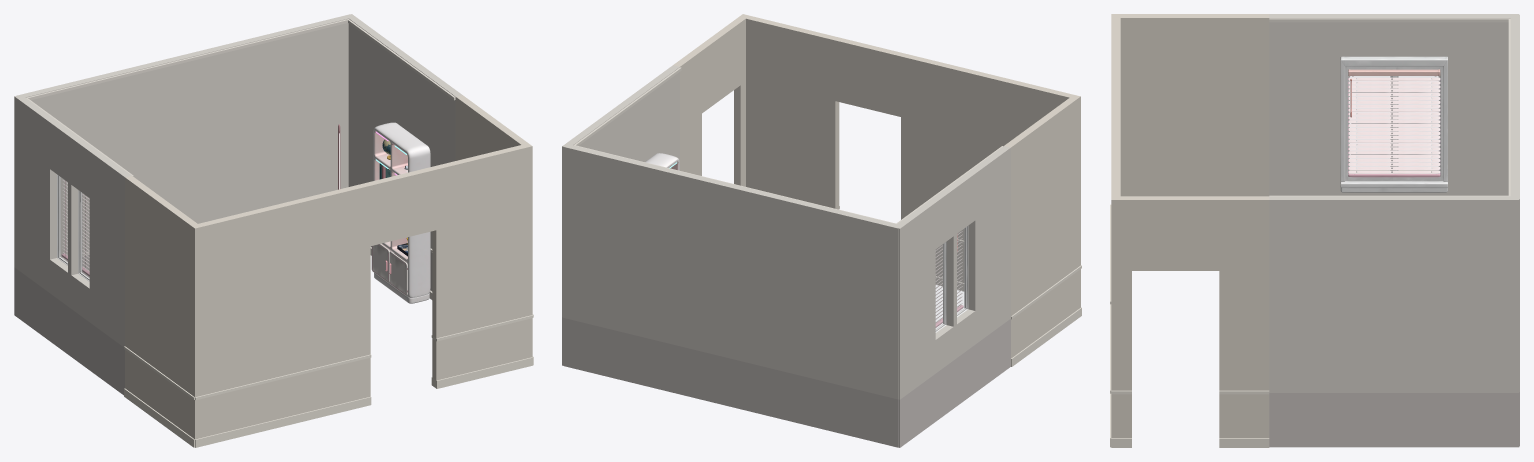
3 views of the same model, side by side, from view 1: azimuth 30°, elevation 25°; view 2: azimuth 150°, elevation 25°; view 3: azimuth 270°, elevation 25° (orthographic). The views are drawn at different scales.
Parts seen in each view (by area): view 1: architecture.backWall.v6.upper, architecture.southWall.west.upper, architecture.leftWall.v6.upper, architecture.southWall.east.upper, architecture.leftWall.extension.upper, architecture.rightWall.v6.upper, architecture.southWall.west.lower, architecture.leftWall.v6.lower, architecture.southWall.lintel, bookshelf.carcass, architecture.southWall.east.lower, architecture.leftWall.extension.lower (+13 smaller); view 2: architecture.backWall.v6.upper, architecture.leftWall.v6.upper, architecture.backWall.v6.lower, architecture.southWall.east.upper, architecture.southWall.west.upper, architecture.leftWall.extension.upper, architecture.rightWall.v6.upper, architecture.leftWall.v6.lower, architecture.southWall.lintel, architecture.rightWall.doorLintel, architecture.rightWall.extension.upper, architecture.leftWall.extension.lower (+7 smaller); view 3: architecture.rightWall.v6.upper, architecture.leftWall.v6.upper, architecture.leftWall.extension.upper, architecture.rightWall.v6.lower, architecture.rightWall.extension.upper, architecture.rightWall.doorLintel, window.frame, architecture.rightWall.southPost.upper, architecture.rightWall.extension.lower, architecture.backWall.v6.upper, architecture.southWall.east.upper, architecture.leftWall.v6.topTrim (+8 smaller).
Part boxes in pixels (x1,y1,x2,y2): architecture.backWall.v6.upper: (16, 14, 353, 257); architecture.southWall.west.upper: (191, 182, 370, 396); architecture.leftWall.v6.upper: (14, 94, 131, 346); architecture.southWall.east.upper: (432, 143, 532, 338); architecture.leftWall.extension.upper: (125, 176, 201, 397); architecture.rightWall.v6.upper: (346, 14, 461, 248); architecture.southWall.west.lower: (191, 357, 370, 438); architecture.leftWall.v6.lower: (14, 267, 124, 395); architecture.southWall.lintel: (367, 167, 436, 245); bookshelf.carcass: (373, 122, 430, 303); architecture.southWall.east.lower: (432, 318, 532, 380); architecture.leftWall.extension.lower: (125, 350, 201, 439); architecture.backWall.v6.upper: (563, 144, 901, 399); architecture.leftWall.v6.upper: (894, 146, 1010, 399); architecture.backWall.v6.lower: (563, 318, 898, 447); architecture.southWall.east.upper: (739, 14, 839, 209); architecture.southWall.west.upper: (901, 53, 1080, 267); architecture.leftWall.extension.upper: (1004, 97, 1076, 316); architecture.rightWall.v6.upper: (562, 65, 679, 317); architecture.leftWall.v6.lower: (898, 319, 1010, 447); architecture.southWall.lintel: (835, 37, 904, 116); architecture.rightWall.doorLintel: (695, 20, 740, 113); architecture.rightWall.extension.upper: (673, 49, 701, 175); architecture.leftWall.extension.lower: (1011, 272, 1076, 358); architecture.rightWall.v6.upper: (1269, 196, 1519, 392); architecture.leftWall.v6.upper: (1269, 14, 1519, 195); architecture.leftWall.extension.upper: (1111, 14, 1269, 196); architecture.rightWall.v6.lower: (1269, 393, 1519, 447); architecture.rightWall.extension.upper: (1219, 196, 1269, 390); architecture.rightWall.doorLintel: (1132, 196, 1219, 270); window.frame: (1340, 56, 1447, 192); architecture.rightWall.southPost.upper: (1111, 196, 1131, 390); architecture.rightWall.extension.lower: (1219, 394, 1269, 438); architecture.backWall.v6.upper: (1510, 15, 1519, 391); architecture.southWall.east.upper: (1111, 147, 1120, 390); architecture.leftWall.v6.topTrim: (1269, 18, 1508, 22).
Size of the model in its own units: 4.87 by 3 by 4.5.
86 materials, 34 textured.
